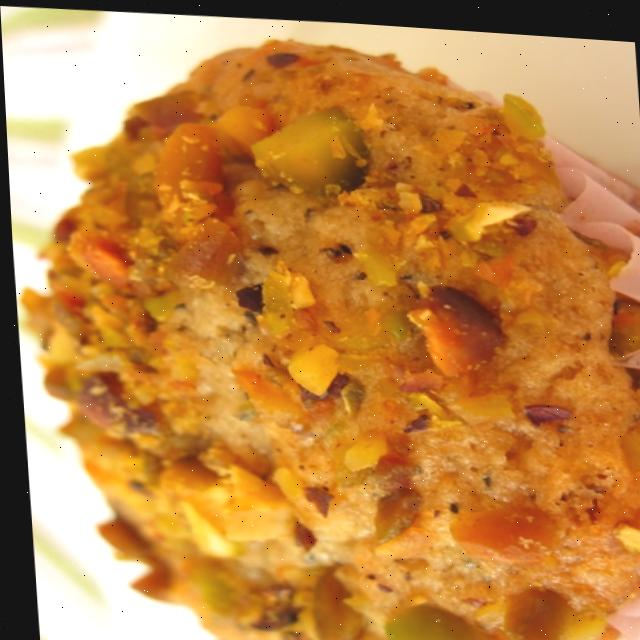炸货点心: (12, 10, 640, 640)
面包点心: (12, 10, 640, 640)
